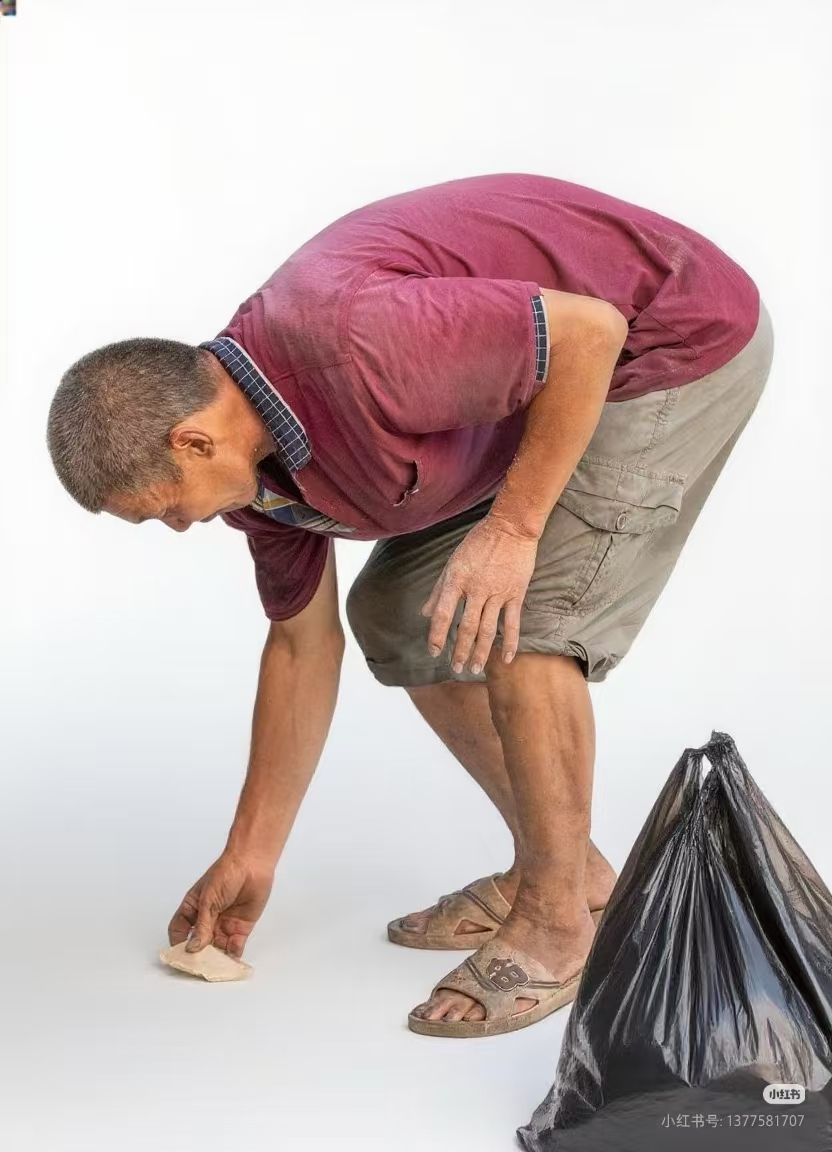bending: (27, 147, 779, 1055)
